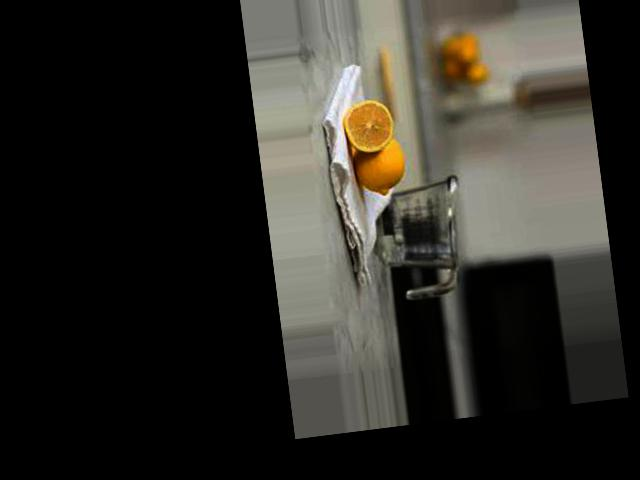lemon: (343, 128, 412, 210)
